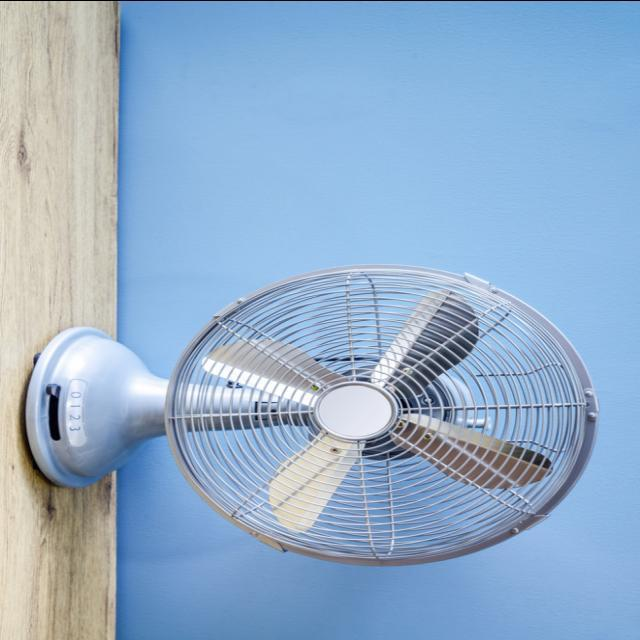fan: (17, 262, 600, 568)
